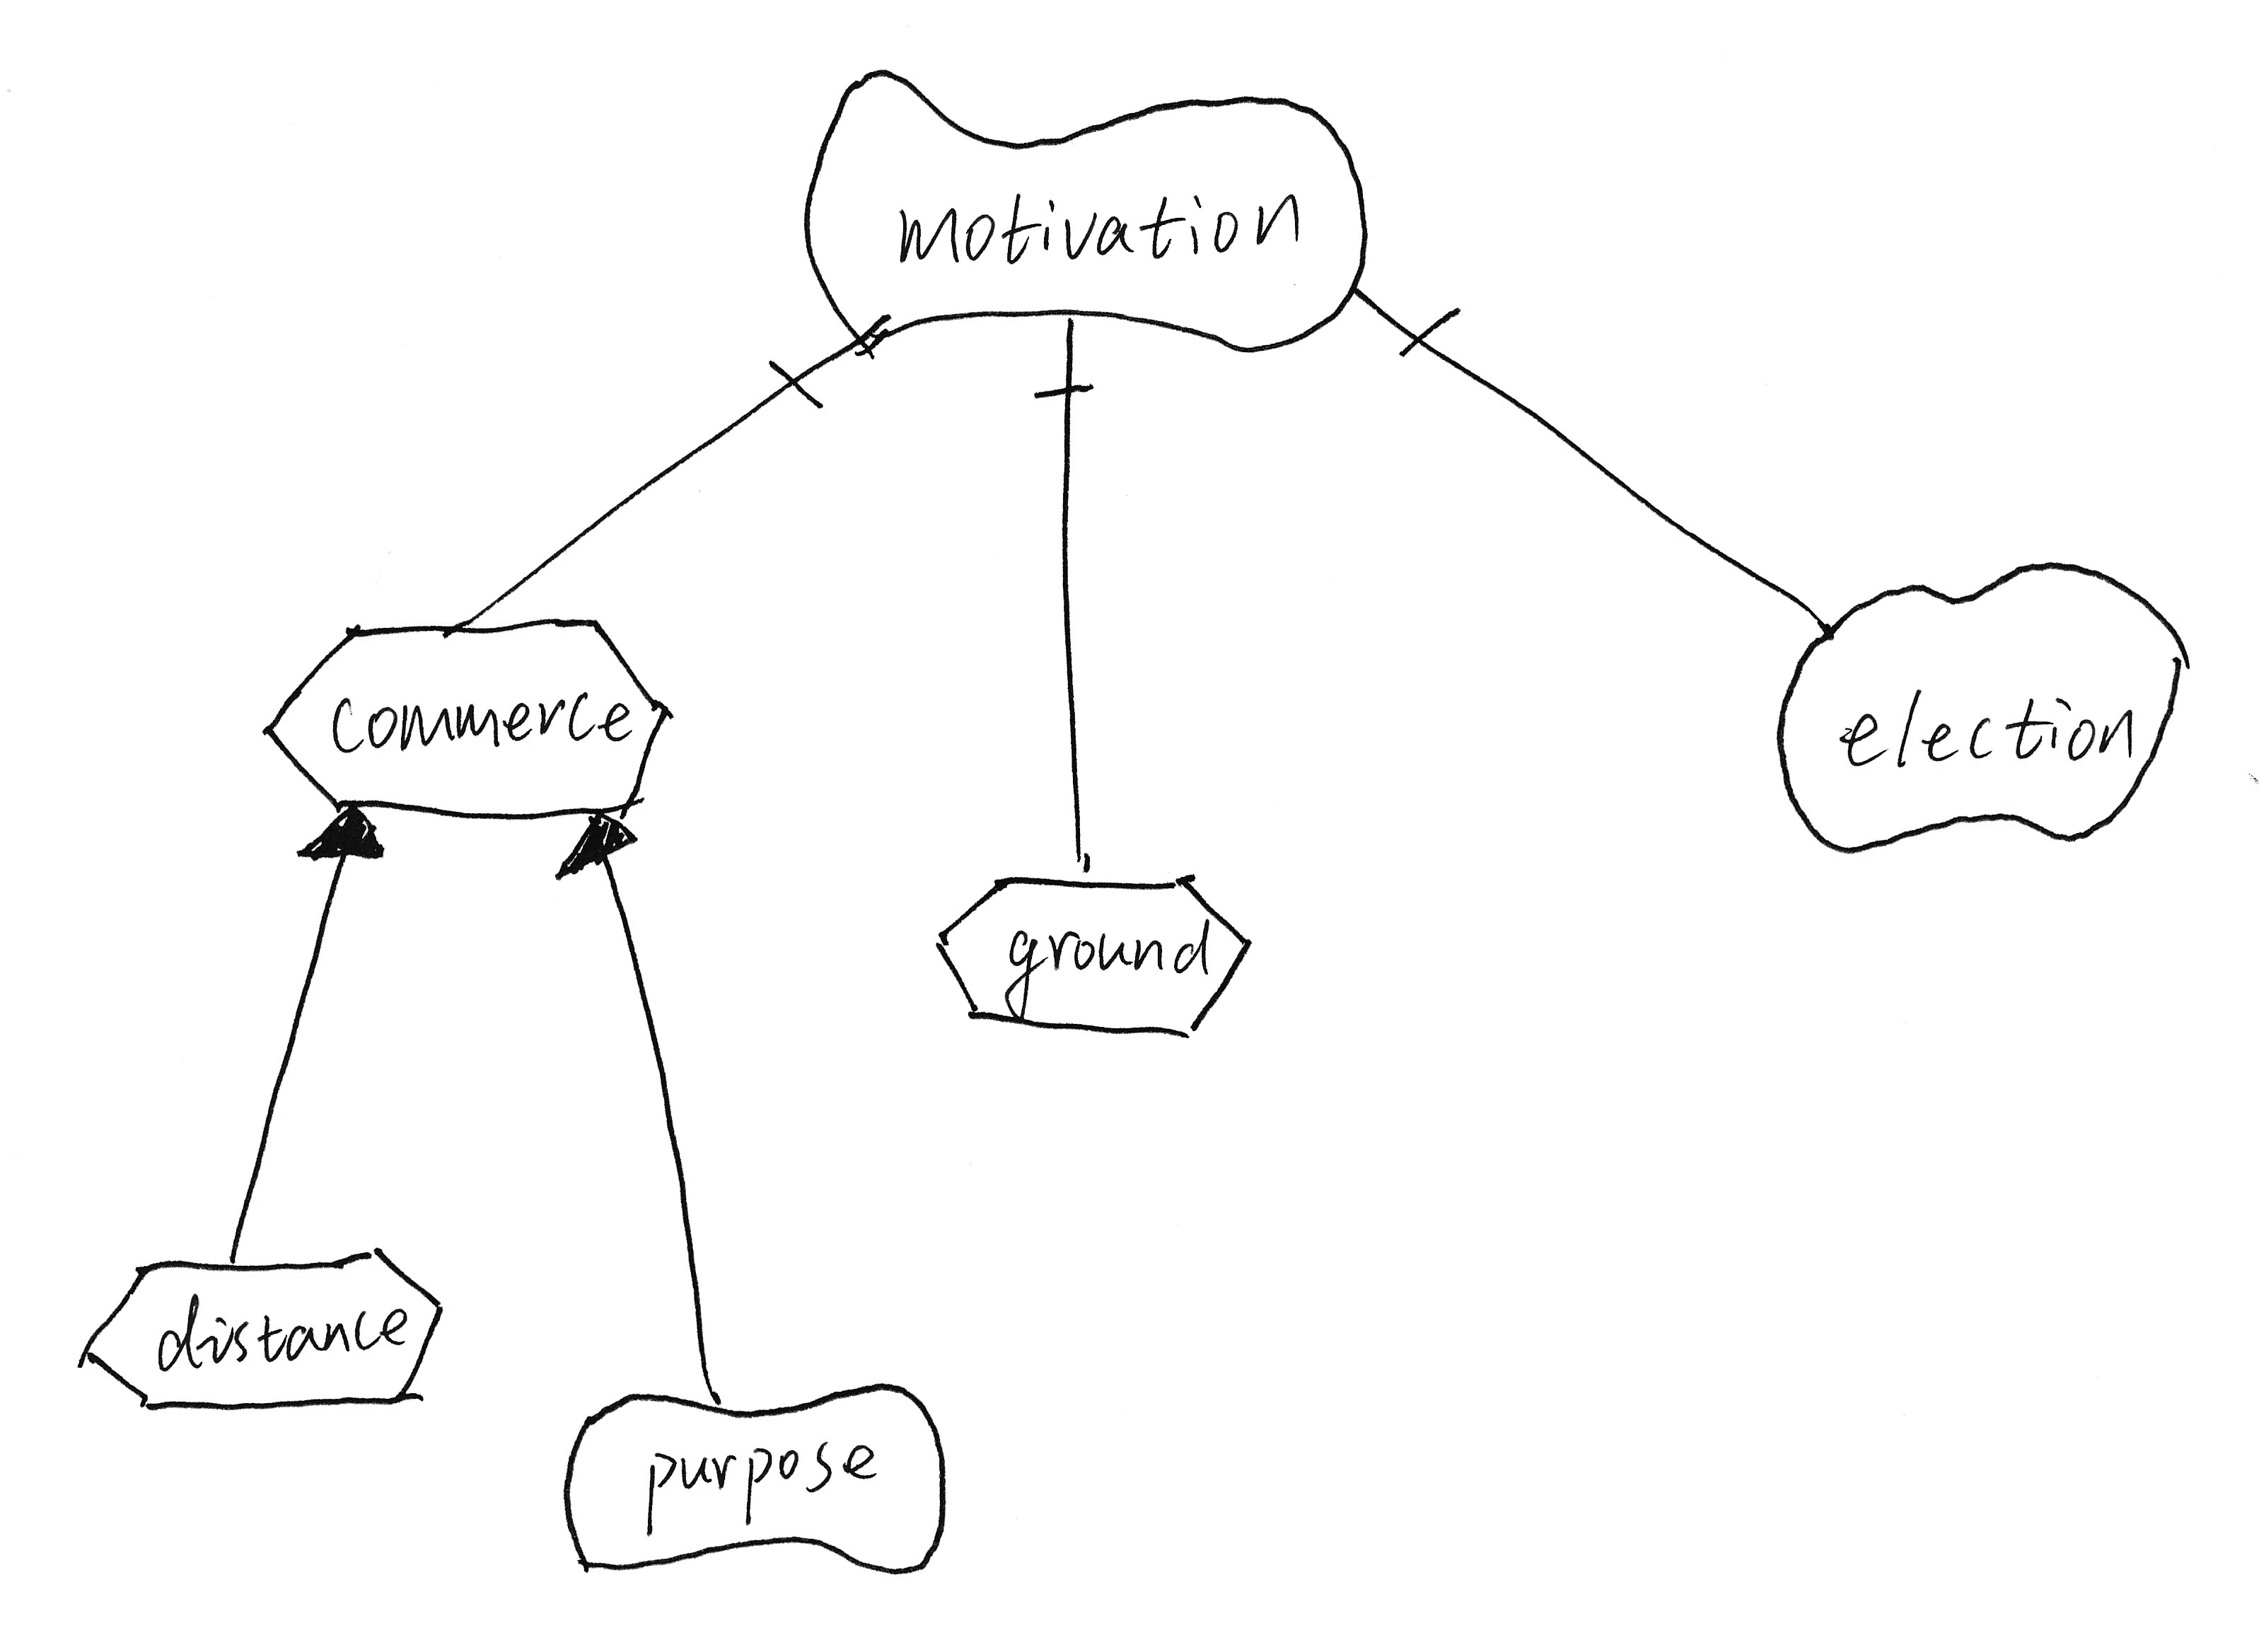and: (747, 321, 851, 438), (1363, 293, 1489, 384), (1007, 338, 1115, 431)
or: (537, 796, 668, 894), (282, 793, 405, 886)
quality: (787, 37, 1384, 374), (1750, 540, 2206, 875), (549, 1368, 961, 1598)
task: (249, 605, 688, 838), (54, 1231, 456, 1436), (912, 847, 1270, 1063)
